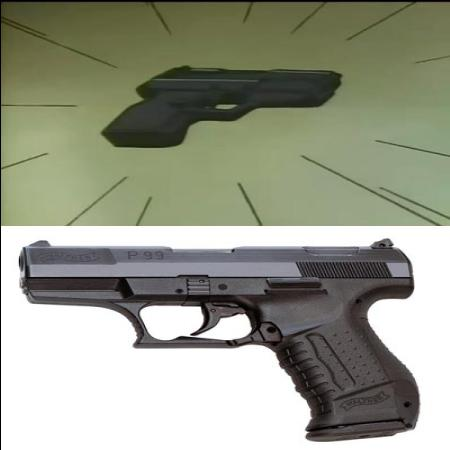Pistol: (16, 238, 420, 441), (99, 62, 341, 148)
